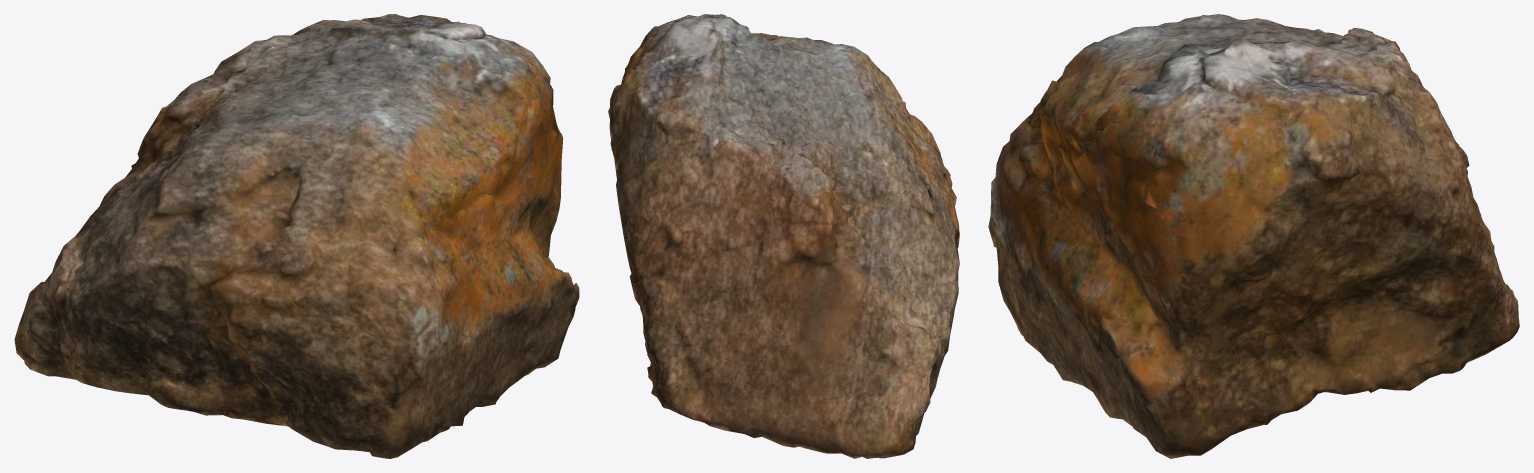
Rendered from namaqualand_boulder_04.glb.
3 renders of one model, left to right at view 1: azimuth 30°, elevation 25°; view 2: azimuth 150°, elevation 25°; view 3: azimuth 270°, elevation 25°, orthographic. The views are drawn at different scales.
Parts seen in each view (by area): view 1: boulder_04; view 2: boulder_04; view 3: boulder_04.
Part boxes in pixels (box(x1,y1,x2,y2)): boulder_04: box(14, 14, 579, 458); boulder_04: box(608, 14, 959, 458); boulder_04: box(988, 14, 1519, 458).
Bounding box in the file's own units: 2.52 × 1.9 × 2.49.
1 material, 1 textured.
